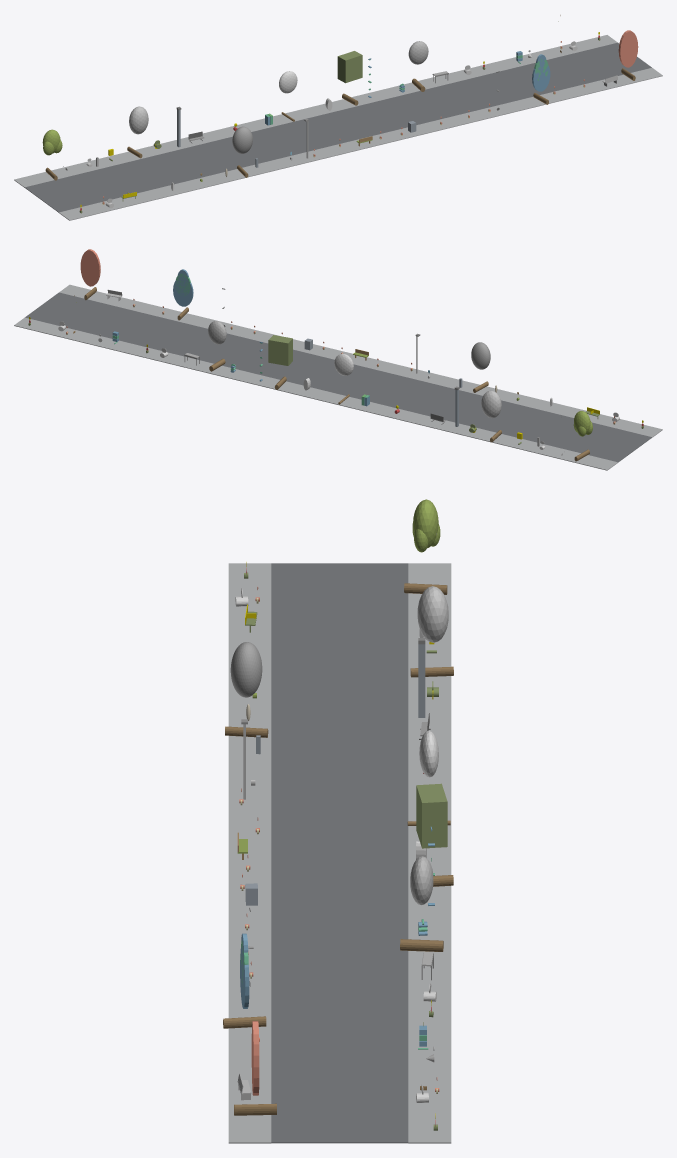
3 renders of one model, top to bottom at view 1: azimuth 30°, elevation 25°; view 2: azimuth 150°, elevation 25°; view 3: azimuth 270°, elevation 25°, orthographic. The views are drawn at different scales.
Parts seen in each view (by area): view 1: road_slab, sidewalk_left, sidewalk_right, inst_0022, inst_0025, inst_0024, inst_0019, inst_0020, inst_0018, inst_0023, inst_0021; view 2: road_slab, sidewalk_right, sidewalk_left, inst_0022, inst_0025, inst_0024, inst_0019, inst_0020, inst_0018, inst_0023, inst_0021; view 3: road_slab, sidewalk_left, sidewalk_right, inst_0022, inst_0020, inst_0019, inst_0018, inst_0023, inst_0025, inst_0024.
Boxes of the visible parts, x1,y1,x2,y2 form: road_slab: [24, 42, 651, 212]; sidewalk_left: [59, 68, 662, 220]; sidewalk_right: [14, 35, 617, 187]; inst_0022: [337, 51, 362, 105]; inst_0025: [618, 30, 638, 80]; inst_0024: [532, 54, 550, 104]; inst_0019: [127, 106, 148, 158]; inst_0020: [232, 126, 252, 177]; inst_0018: [42, 129, 62, 180]; inst_0023: [408, 41, 428, 91]; inst_0021: [279, 71, 297, 121]; road_slab: [25, 292, 651, 462]; sidewalk_right: [14, 317, 617, 470]; sidewalk_left: [59, 284, 662, 437]; inst_0022: [268, 335, 292, 389]; inst_0025: [80, 249, 100, 300]; inst_0024: [173, 269, 193, 320]; inst_0019: [481, 390, 501, 442]; inst_0020: [471, 342, 490, 392]; inst_0018: [573, 411, 592, 461]; inst_0023: [208, 321, 226, 371]; inst_0021: [334, 353, 353, 404]; road_slab: [271, 563, 408, 1143]; sidewalk_left: [228, 563, 271, 1143]; sidewalk_right: [408, 563, 451, 1143]; inst_0022: [416, 783, 453, 886]; inst_0020: [225, 642, 268, 737]; inst_0019: [410, 586, 453, 677]; inst_0018: [404, 499, 447, 594]; inst_0023: [400, 856, 443, 951]; inst_0025: [234, 1021, 276, 1115]; inst_0024: [223, 933, 266, 1028].
Size of the model in its own units: 80 by 6.08 by 13.48.
